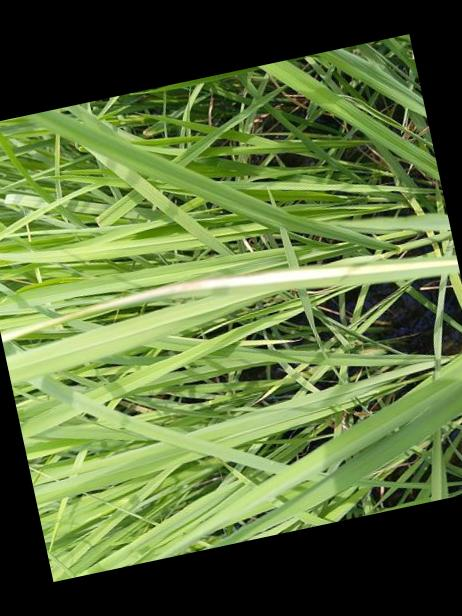Panicle Blight: (0, 254, 459, 342)
